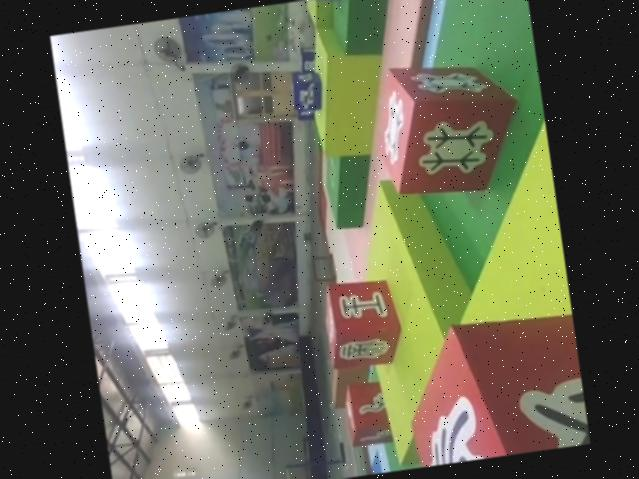R2 Fake: (392, 304, 590, 469), (316, 273, 411, 374)
R2 Real: (365, 50, 528, 207), (339, 377, 396, 451)
